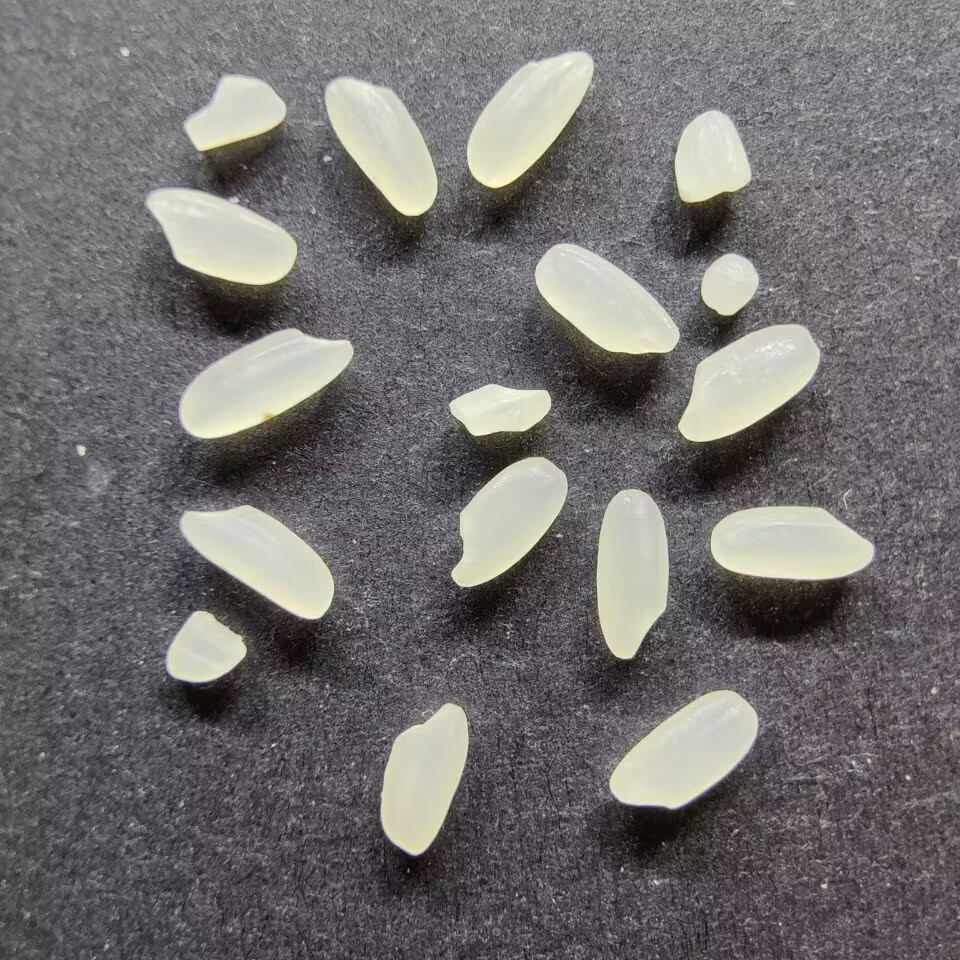broken: (180, 72, 288, 154), (672, 109, 753, 204), (164, 608, 249, 685), (447, 382, 553, 439), (697, 251, 761, 317)
rice: (175, 326, 357, 441), (464, 49, 596, 190), (607, 689, 759, 811), (178, 502, 334, 620), (677, 323, 823, 444), (320, 75, 440, 217), (532, 242, 681, 356), (450, 455, 569, 589), (142, 185, 297, 287), (378, 702, 471, 857), (594, 487, 670, 661), (708, 503, 875, 581)
